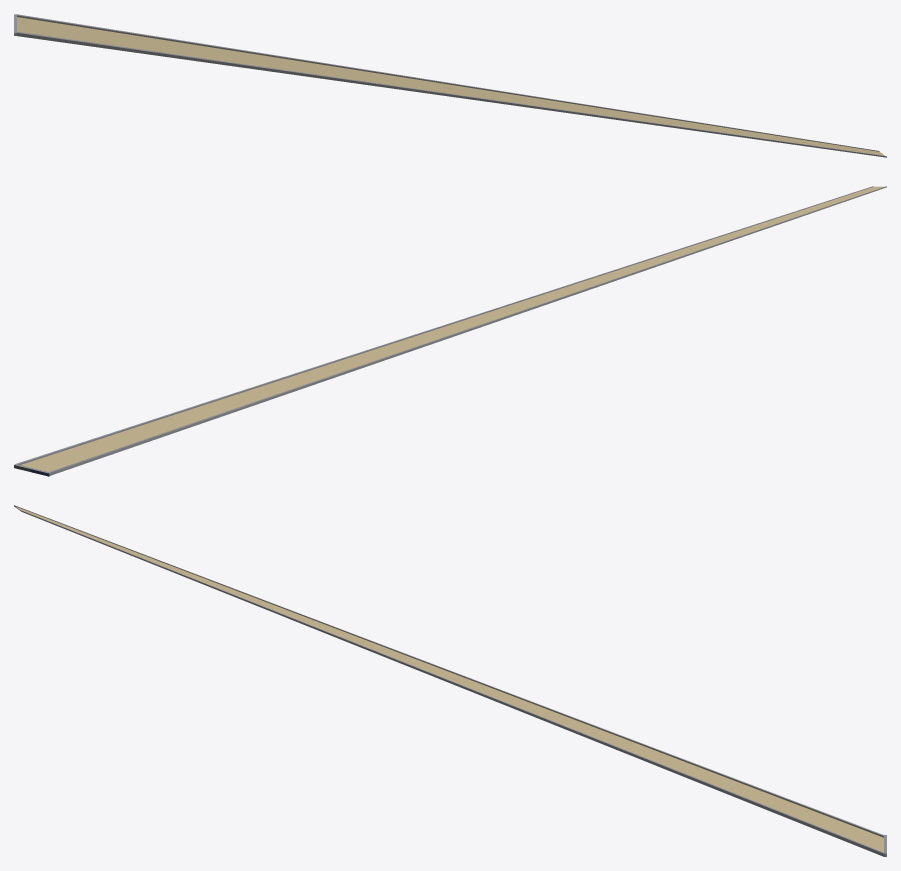
File: Sidewalk_4.gltf
The picture shows the model from 3 angles, top to bottom: view 1: azimuth 90°, elevation 25°; view 2: azimuth 150°, elevation 25°; view 3: azimuth 270°, elevation 25°; orthographic projection. The views are drawn at different scales.
Visible parts, largest first — view 1: sidewalk; view 2: sidewalk; view 3: sidewalk.
Part boxes in pixels (<box>): sidewalk: <box>14,14,886,157</box>; sidewalk: <box>14,186,886,476</box>; sidewalk: <box>14,505,886,856</box>.
Bounding box in the file's own units: 12.35 × 2.5 × 18.57.
1 material, 1 textured.
